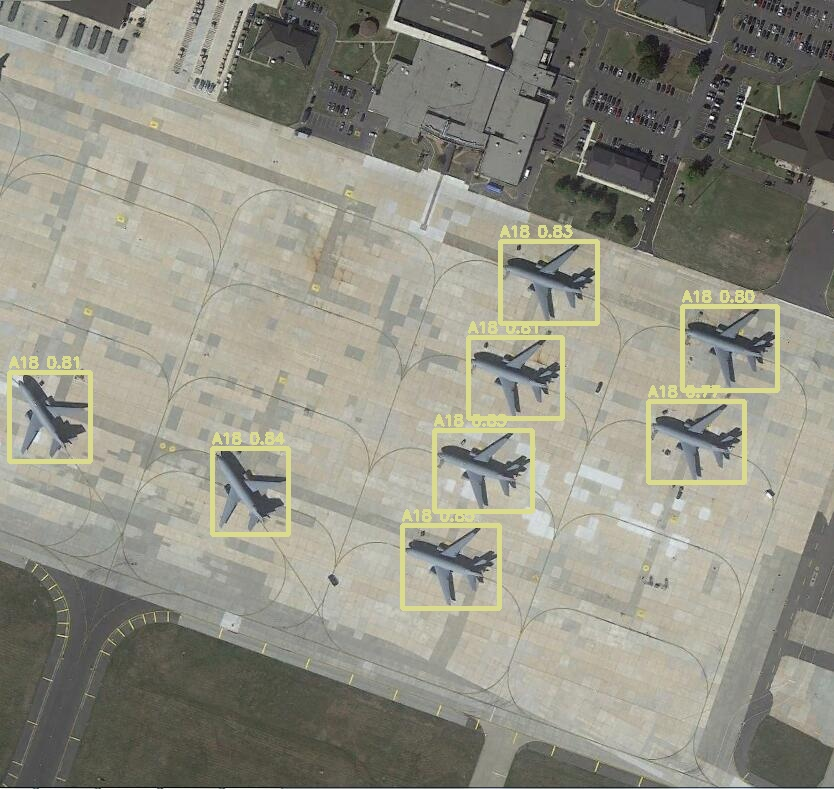A18: (402, 525, 499, 608), (682, 306, 777, 390), (500, 241, 597, 323), (434, 430, 532, 511), (648, 401, 744, 482), (468, 337, 562, 418), (9, 372, 90, 461), (212, 448, 288, 534)
